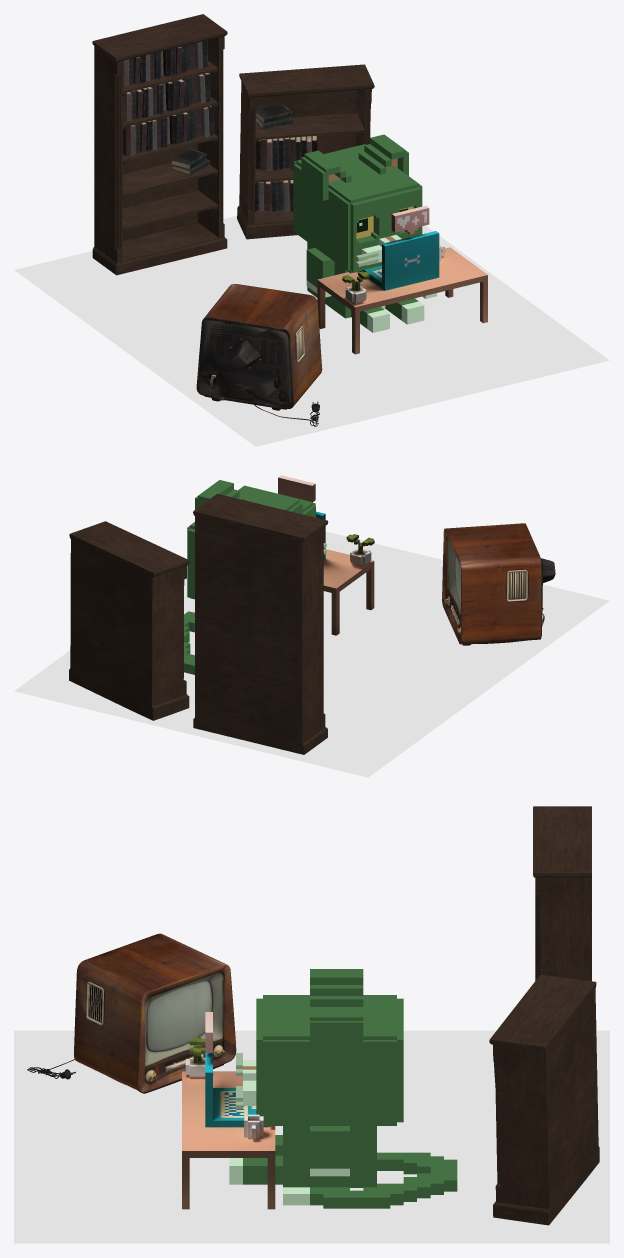
The model's file is cat.glb.
The picture shows the model from 3 angles, top to bottom: view 1: azimuth 30°, elevation 25°; view 2: azimuth 150°, elevation 25°; view 3: azimuth 270°, elevation 25°; orthographic projection. The views are drawn at different scales.
Parts seen in each view (by area): view 1: Plane, Victorian Bookcase Tall, Object_2, Victorian Bookcase Small, main, tv_matt, tv_drewno_obudowa, Victorian Bookcase Tall Books 5_Victorian Bookcase Tall_0.00 (×2), Victorian Bookcase Tall Books 5, Victorian Bookcase Small Books 2, Victorian Bookcase Tall Corner, Victorian Bookcase Small Books 1 (+2 smaller); view 2: Plane, Victorian Bookcase Tall, Victorian Bookcase Small, tv_drewno_obudowa, main, Object_2, tv_plastic_detale, tv_front, tv_matt; view 3: Plane, Object_2, Victorian Bookcase Small, tv_drewno_obudowa, Victorian Bookcase Tall, main, tv_glass_ekran, tv_front, tv_plastic_detale.
Boxes of the visible parts, box(x1,y1,x2,y2) form: Plane: box(14, 215, 609, 446); Victorian Bookcase Tall: box(92, 14, 227, 275); Object_2: box(293, 134, 436, 332); Victorian Bookcase Small: box(237, 64, 374, 239); main: box(317, 205, 487, 354); tv_matt: box(198, 320, 319, 426); tv_drewno_obudowa: box(196, 284, 322, 408); Victorian Bookcase Tall Books 5_Victorian Bookcase Tall_0.00 (×2): box(122, 40, 210, 122); Victorian Bookcase Tall Books 5: box(122, 106, 214, 156); Victorian Bookcase Small Books 2: box(255, 135, 317, 170); Victorian Bookcase Tall Corner: box(115, 49, 223, 250); Victorian Bookcase Small Books 1: box(254, 180, 293, 211); Plane: box(14, 531, 609, 777); Victorian Bookcase Tall: box(193, 493, 328, 754); Victorian Bookcase Small: box(69, 521, 190, 720); tv_drewno_obudowa: box(442, 523, 541, 644); main: box(278, 475, 374, 635); Object_2: box(184, 480, 326, 674); tv_plastic_detale: box(444, 569, 527, 633); tv_front: box(447, 537, 460, 617); tv_matt: box(462, 558, 555, 645); Plane: box(14, 1030, 609, 1243); Object_2: box(229, 969, 457, 1208); Victorian Bookcase Small: box(489, 974, 599, 1225); tv_drewno_obudowa: box(74, 933, 236, 1092); Victorian Bookcase Tall: box(533, 806, 591, 981); main: box(182, 1012, 275, 1209); tv_glass_ekran: box(146, 980, 212, 1051); tv_front: box(145, 972, 223, 1066); tv_plastic_detale: box(86, 981, 224, 1081).
Size of the model in its own units: 12.62 by 7.48 by 14.92.
7 materials, 7 textured.
